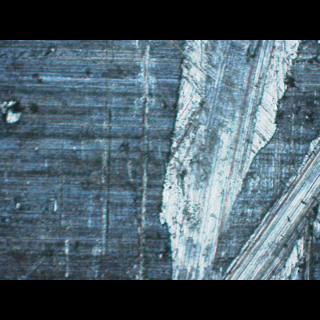d: (151, 40, 319, 278), (0, 94, 37, 128)
